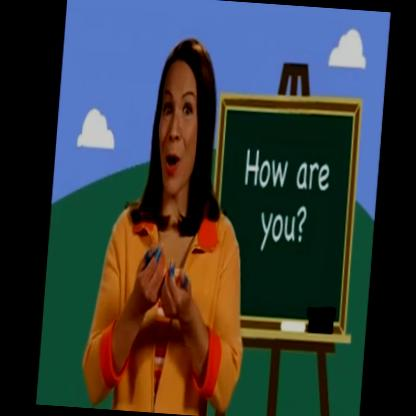HowAreYou: (113, 222, 221, 360)
